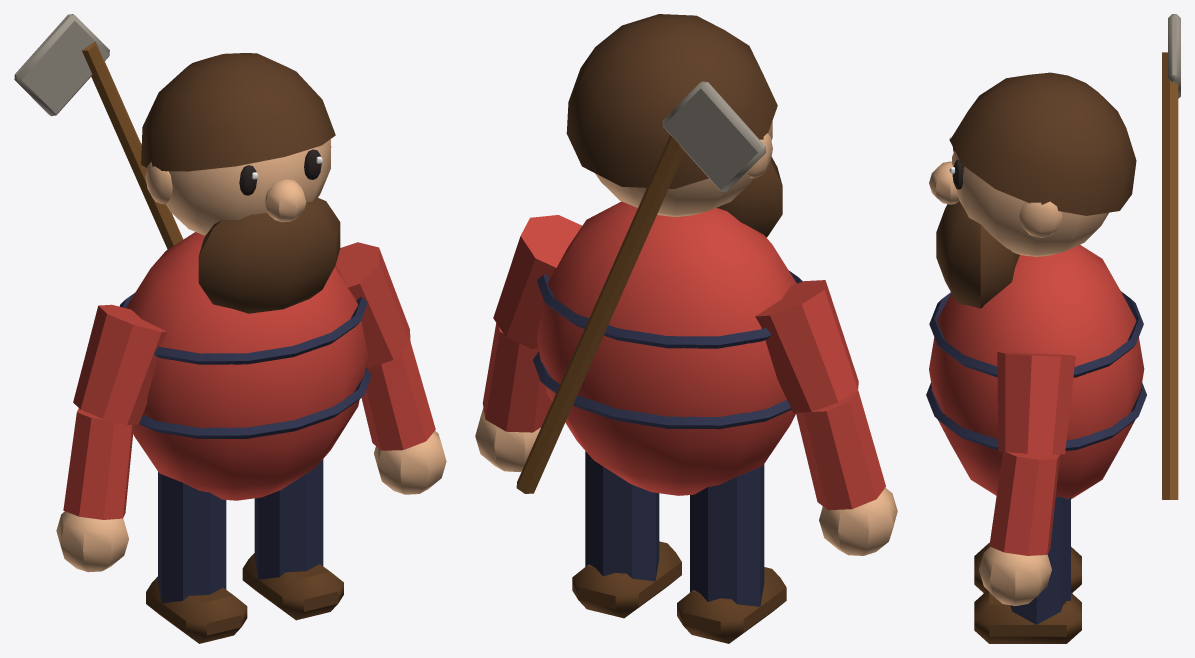
The model's file is CH_Cust_03_Oduncu.fbx.
The picture shows the model from 3 angles, left to right: view 1: azimuth 30°, elevation 25°; view 2: azimuth 150°, elevation 25°; view 3: azimuth 270°, elevation 25°; orthographic projection. The views are drawn at different scales.
Parts seen in each view (by area): view 1: CH_Cust_03_Oduncu; view 2: CH_Cust_03_Oduncu; view 3: CH_Cust_03_Oduncu.
Boxes of the visible parts, <box> form: CH_Cust_03_Oduncu: <box>14,14,446,643</box>; CH_Cust_03_Oduncu: <box>475,14,897,643</box>; CH_Cust_03_Oduncu: <box>926,14,1180,643</box>.
Size of the model in its own units: 0.9968 by 1.41 by 0.5917.
